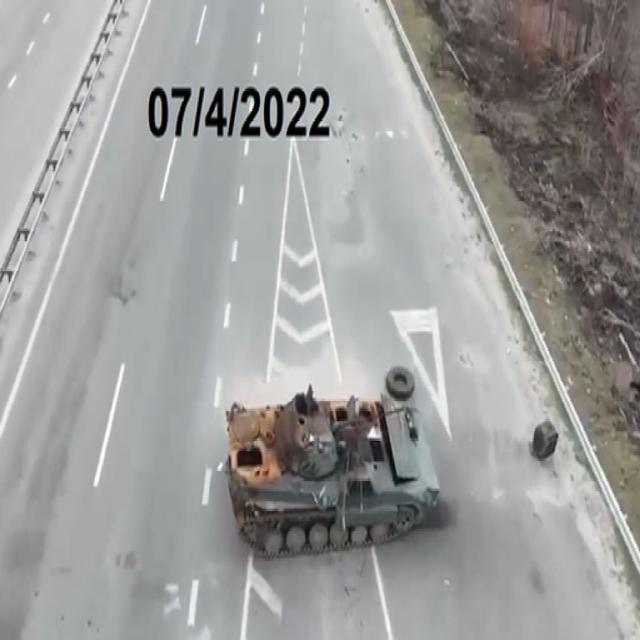APC-IFV: (213, 358, 447, 551)
